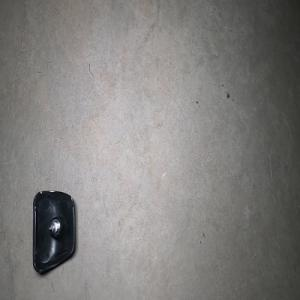LuggagePart: (31, 189, 76, 275)
